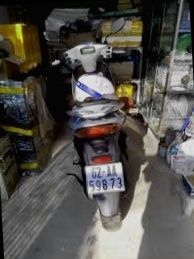Bien-so: (82, 154, 124, 185)
